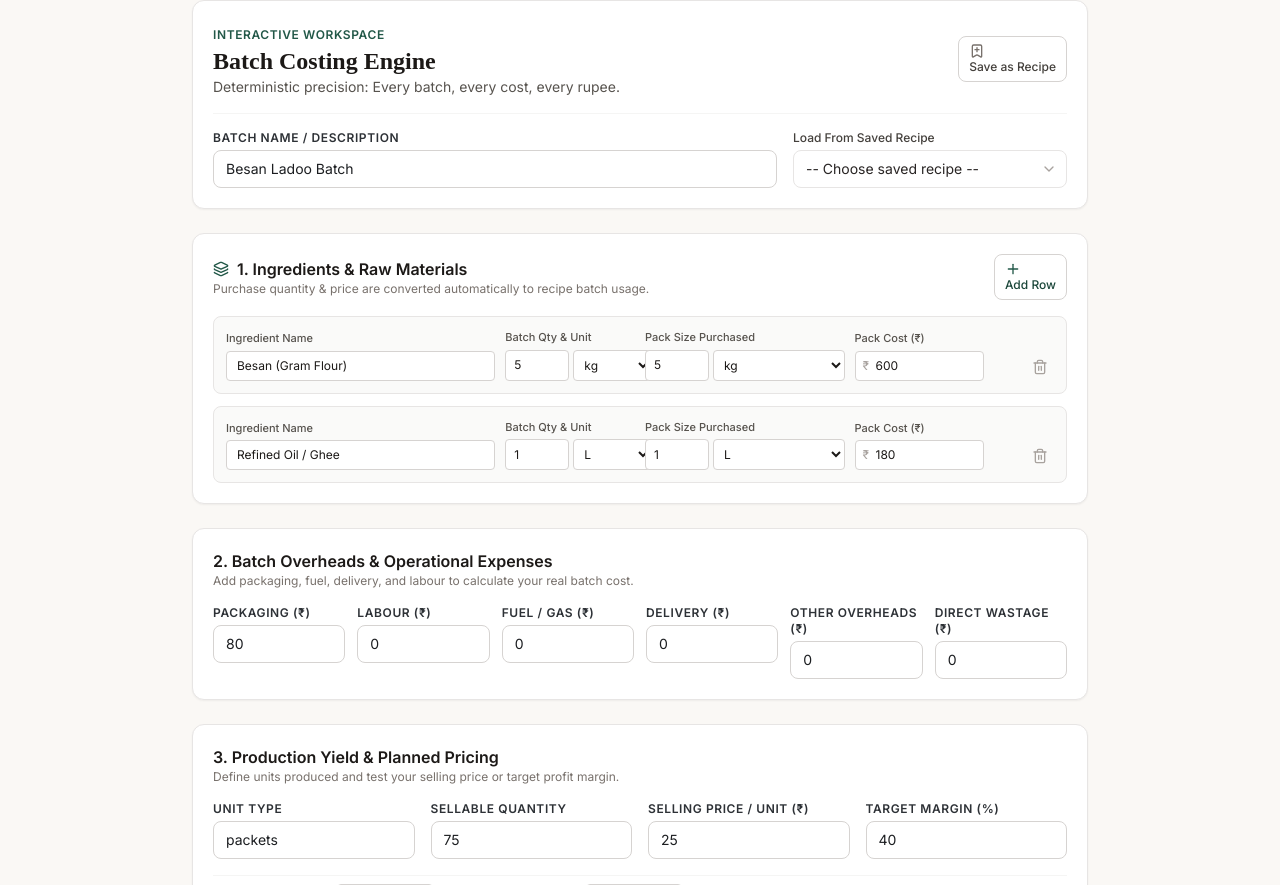
Scenario: CostingWorkspace component › renders initial ingredient rows and allows adding a row
The image size is (1280, 885).
Expected: the heading "Batch Costing Engine" is shown, [213, 48, 436, 74]
Expected: the 1st field showing "Besan (Gram Flour)" is shown, [226, 350, 495, 380]
What coordinates should you click on to do the following:
click the button "Add Row"
I would click on:
 (1030, 277)
Its box is [994, 254, 1067, 300].
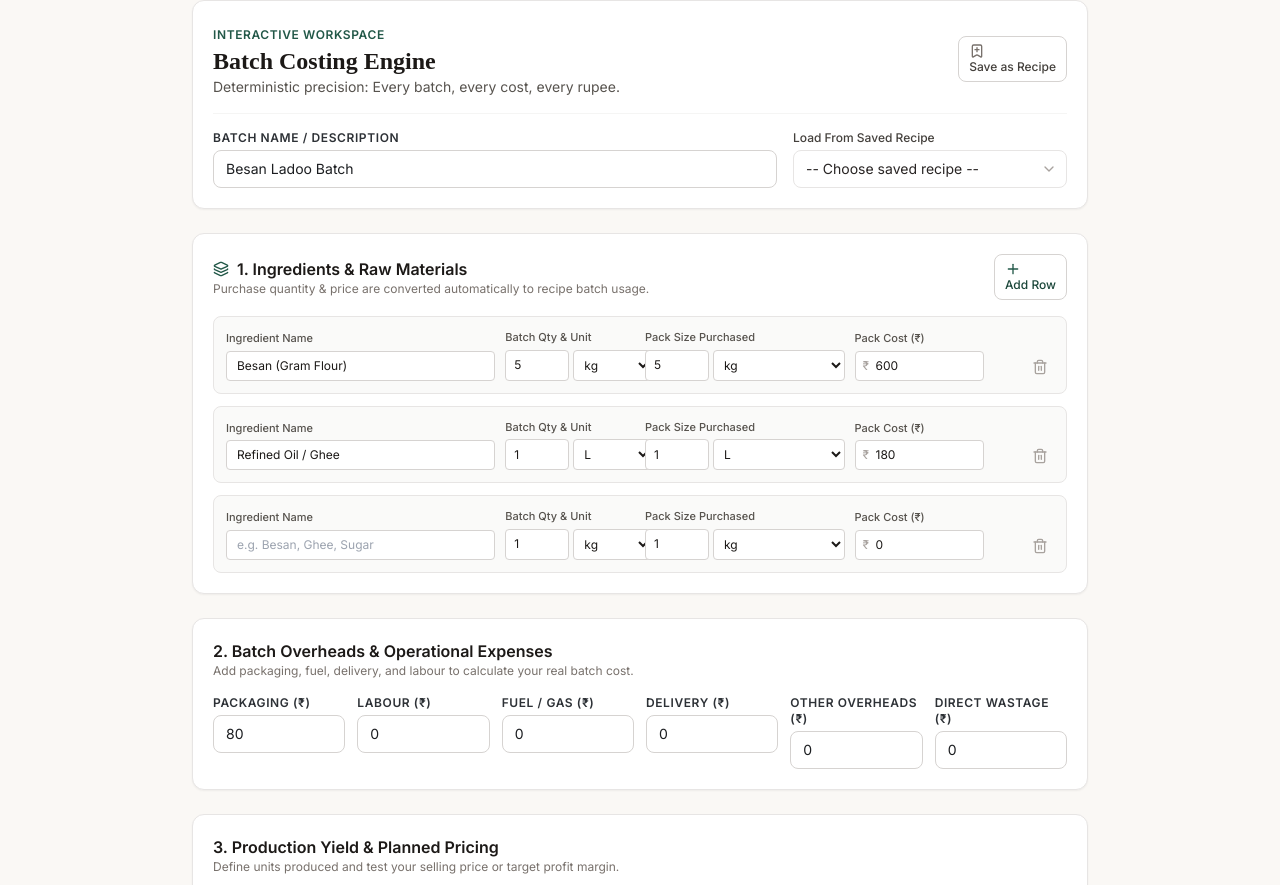
Now the number of fields with placeholder "e.g. Besan, Ghee, Sugar" is 3, box [226, 350, 495, 380]; [226, 440, 495, 470]; [226, 530, 495, 560]
